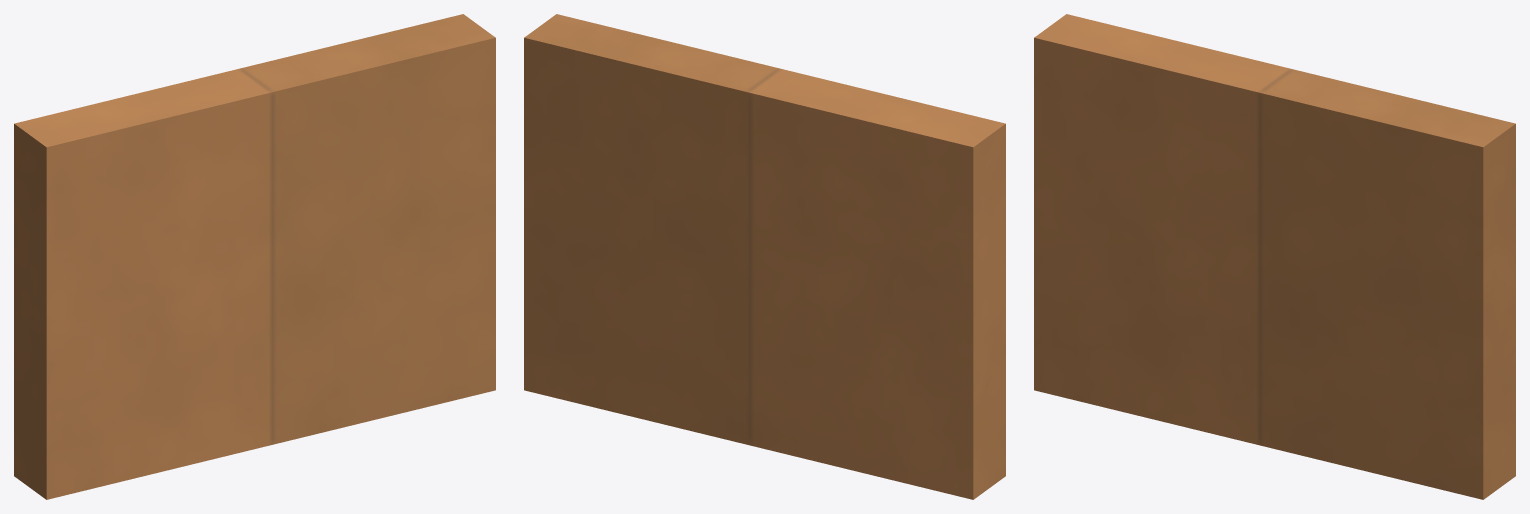
3 renders of one model, left to right at view 1: azimuth 30°, elevation 25°; view 2: azimuth 150°, elevation 25°; view 3: azimuth 330°, elevation 25°, orthographic.
Visible parts, largest first — view 1: ss10-slab-partition; view 2: ss10-slab-partition; view 3: ss10-slab-partition.
Boxes of the visible parts, x1=… form: ss10-slab-partition: x1=14, y1=14, x2=495, y2=499; ss10-slab-partition: x1=524, y1=14, x2=1005, y2=499; ss10-slab-partition: x1=1034, y1=14, x2=1515, y2=499.
Bounding box in the file's own units: 200 × 150 × 25.
